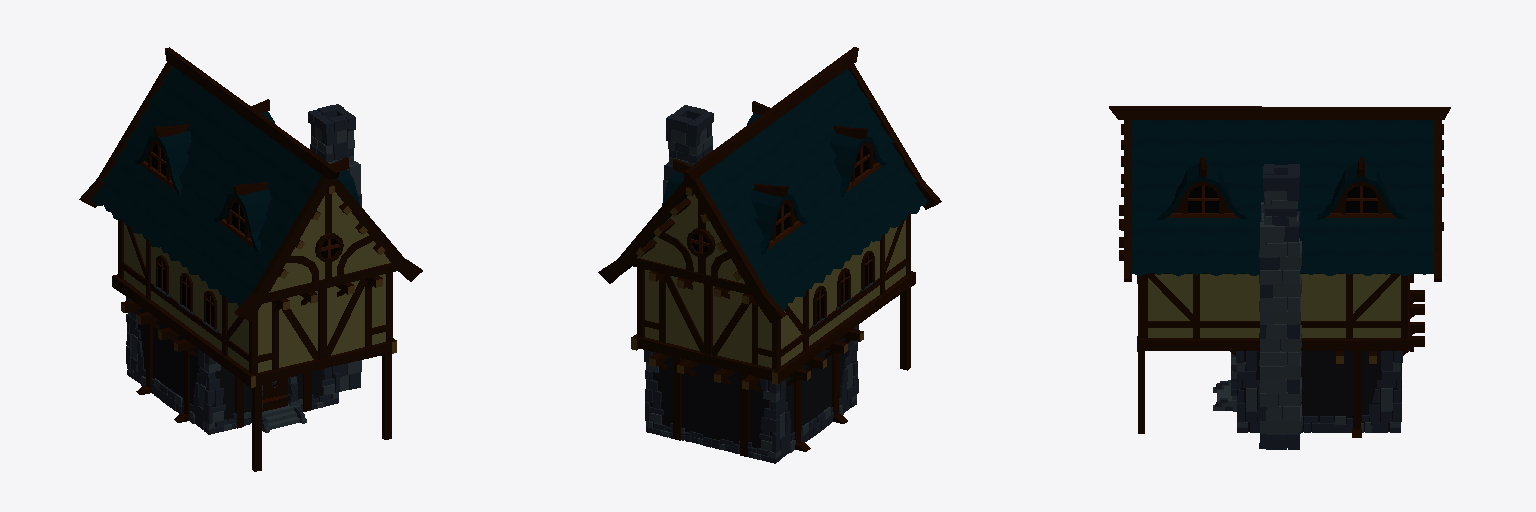
File: House_2_Cylinder.obj
3 renders of one model, left to right at view 1: azimuth 30°, elevation 25°; view 2: azimuth 150°, elevation 25°; view 3: azimuth 270°, elevation 25°, orthographic.
Visible parts, largest first — view 1: House_2_Cylinder.021; view 2: House_2_Cylinder.021; view 3: House_2_Cylinder.021.
Part boxes in pixels (x1,y1,x2,y2): House_2_Cylinder.021: (79, 47, 422, 471); House_2_Cylinder.021: (598, 47, 941, 463); House_2_Cylinder.021: (1109, 106, 1450, 449).
Bounding box in the file's own units: 2.22 × 3.25 × 3.42.